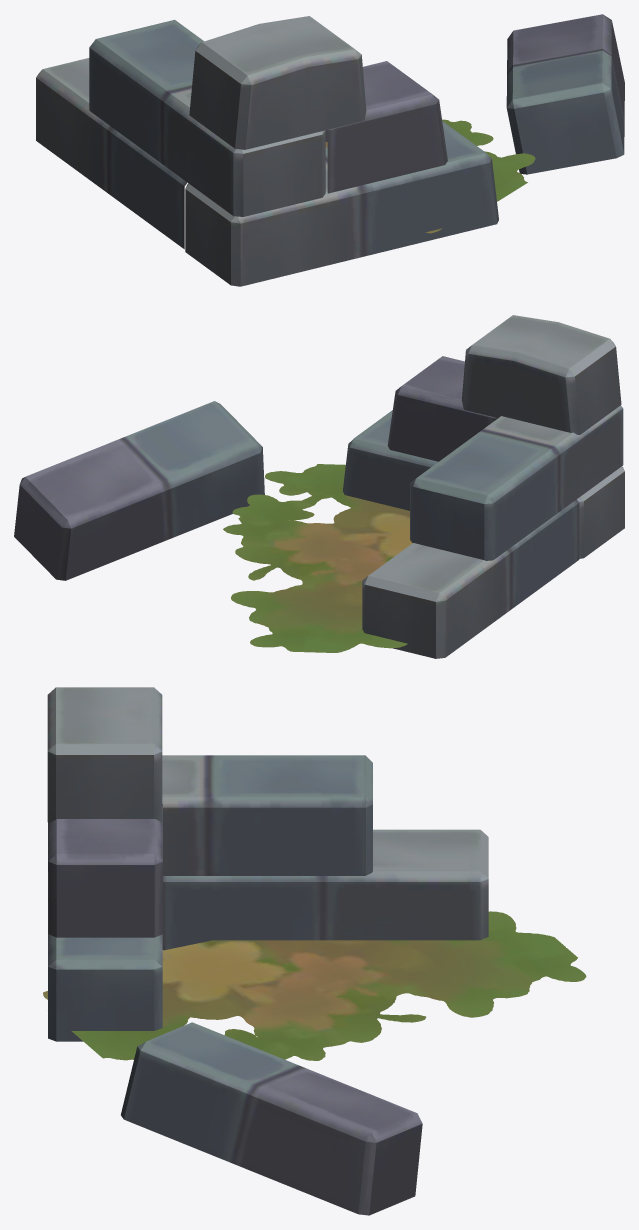
The model's file is ruins_6.fbx.
3 views of the same model, one above another, from view 1: azimuth 30°, elevation 25°; view 2: azimuth 150°, elevation 25°; view 3: azimuth 270°, elevation 25° (orthographic). The views are drawn at different scales.
Visible parts, largest first — view 1: building, obstacle_ground_02; view 2: building, obstacle_ground_02; view 3: building, obstacle_ground_02.
Boxes of the visible parts, x1,y1,x2,y2 form: building: [36, 14, 624, 286]; obstacle_ground_02: [325, 119, 535, 233]; building: [14, 315, 624, 658]; obstacle_ground_02: [223, 464, 412, 652]; building: [47, 687, 488, 1215]; obstacle_ground_02: [43, 911, 586, 1060].
Bounding box in the file's own units: 2.44 × 1.1 × 2.18.
2 materials, 2 textured.
